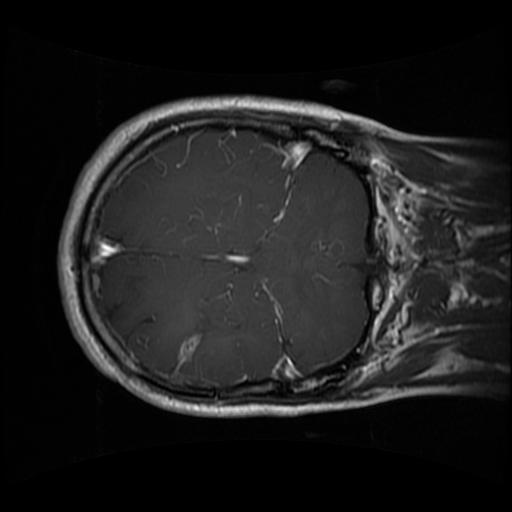glioma: (175, 296, 248, 366)
